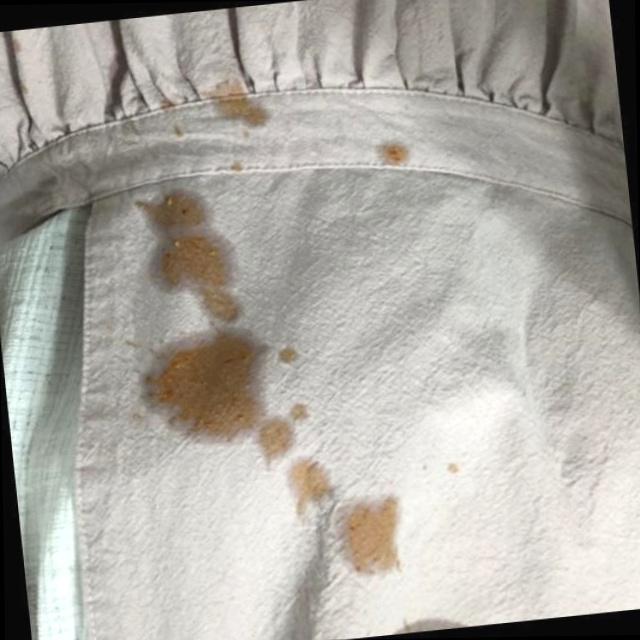kimchi: (118, 186, 336, 462), (274, 460, 419, 587), (144, 69, 277, 178), (365, 129, 423, 183), (447, 455, 468, 478)
